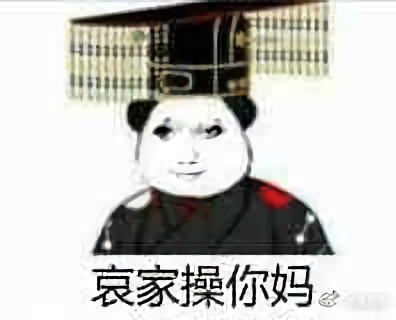dragon: (152, 115, 229, 186)
